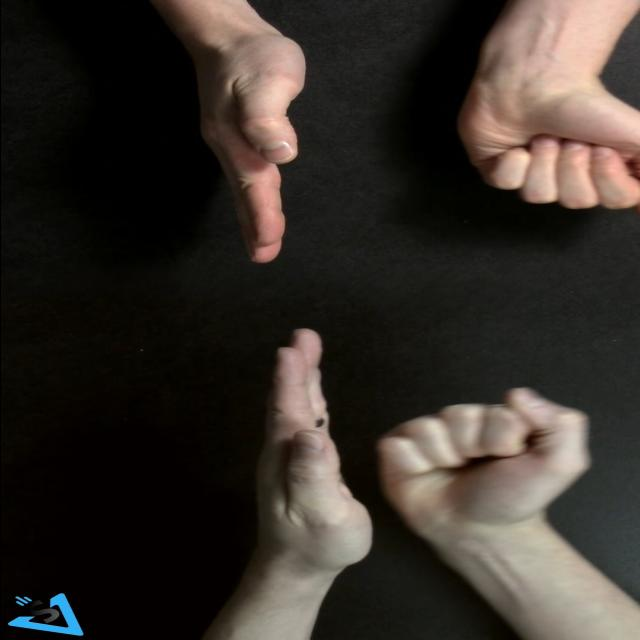Rock: (381, 387, 598, 534), (463, 70, 640, 213)
